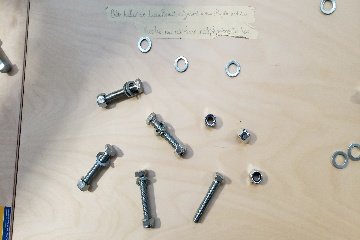Bolt: (191, 171, 225, 224)
FalseAssembly: (76, 144, 117, 192), (132, 171, 157, 230)
FinishedAssembly: (144, 112, 187, 159), (96, 78, 144, 108)
Nut: (248, 169, 263, 185), (237, 129, 252, 144), (203, 114, 217, 129)
Washer: (225, 58, 242, 79), (136, 37, 155, 54), (331, 150, 348, 168), (173, 57, 189, 73)
